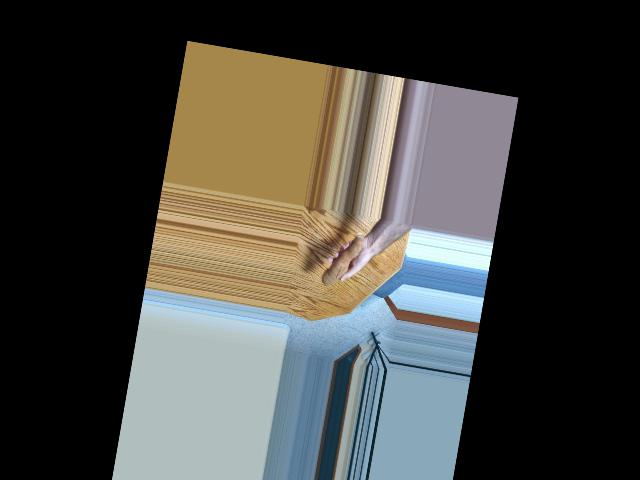sweet_potato: (320, 226, 369, 293)
